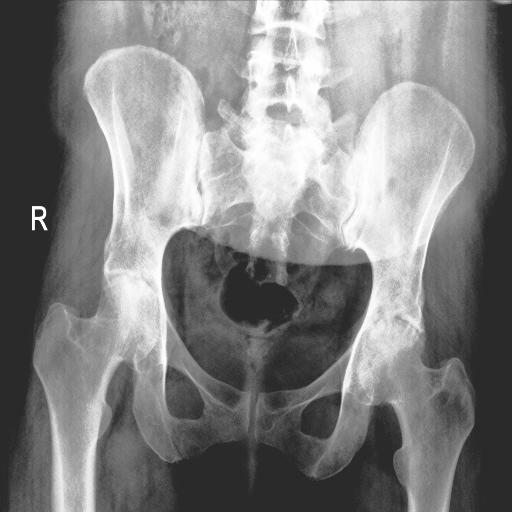normal: (34, 274, 159, 511), (357, 317, 475, 512)
